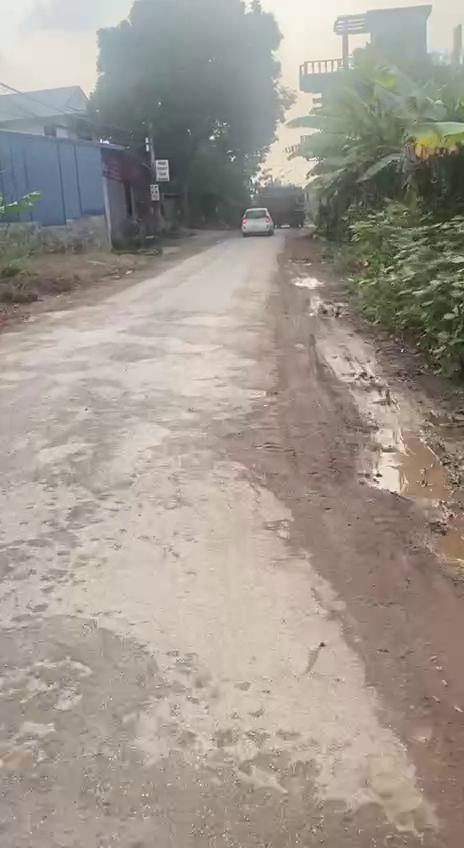pothole: (347, 408, 464, 562)
